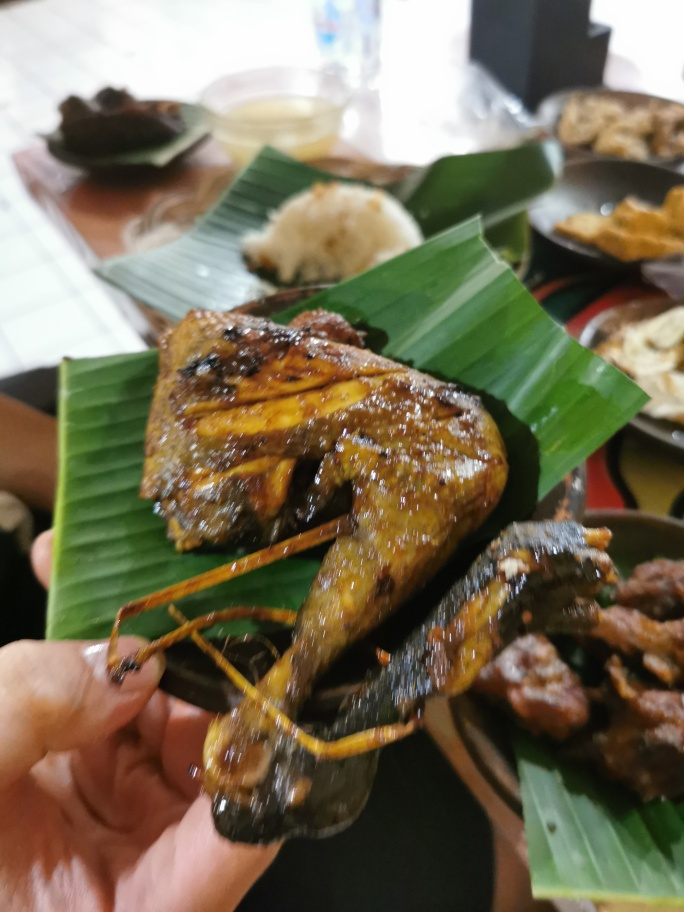ayam bakar: (136, 306, 621, 855)
